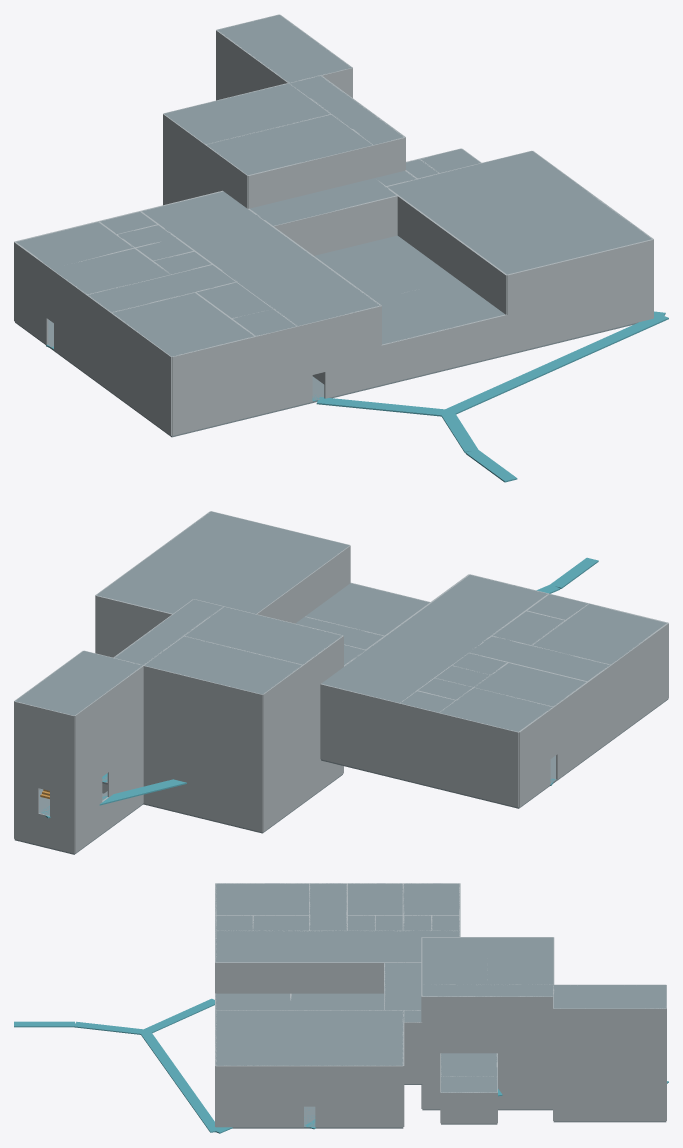
File: furnished.glb
3 views of the same model, one above another, from view 1: azimuth 30°, elevation 25°; view 2: azimuth 150°, elevation 25°; view 3: azimuth 270°, elevation 25° (orthographic). The views are drawn at different scales.
Parts seen in each view (by area): view 1: Ceiling cap ballroom, Ceiling cap gallery, Wall ballroom S, Ceiling cap archive, Ceiling cap attic-store, Wall morning S, Wall drawing S, Ceiling cap dining, Ceiling cap suite-bed, Ceiling cap morning, Ceiling cap attic-stair, Wall attic-store S (+35 smaller); view 2: Ceiling cap ballroom, Ceiling cap gallery, Ceiling cap archive, Ceiling cap attic-store, Wall library N, Ceiling cap suite-bed, Ceiling cap attic-stair, Wall archive N, Ceiling cap morning, Wall guest-a N, Wall drawing W, Wall gallery N (+48 smaller); view 3: Ceiling cap ballroom, Ceiling cap gallery, Wall ballroom E, Wall ballroom E.001, Wall gallery E.001, Wall upper-service E, Wall attic-passage E, Wall service-stair E, Wall upper-service-stair E, Ceiling cap archive, Ceiling cap attic-store, Wall attic-stair E (+28 smaller).
Part boxes in pixels (<box>): Ceiling cap ballroom: <box>388,151,651,274</box>; Ceiling cap gallery: <box>142,191,380,326</box>; Wall ballroom S: <box>506,239,653,354</box>; Ceiling cap archive: <box>164,83,329,144</box>; Ceiling cap attic-store: <box>207,114,373,174</box>; Wall morning S: <box>381,314,507,384</box>; Wall drawing S: <box>172,366,297,435</box>; Ceiling cap dining: <box>314,235,457,299</box>; Ceiling cap suite-bed: <box>112,293,255,356</box>; Ceiling cap morning: <box>374,279,504,344</box>; Ceiling cap attic-stair: <box>217,15,351,82</box>; Wall attic-store S: <box>248,145,374,208</box>; Ceiling cap ballroom: <box>96,511,349,613</box>; Ceiling cap gallery: <box>322,575,548,702</box>; Ceiling cap archive: <box>144,636,301,694</box>; Ceiling cap attic-store: <box>185,607,342,664</box>; Wall library N: <box>399,741,518,807</box>; Ceiling cap suite-bed: <box>532,604,666,664</box>; Ceiling cap attic-stair: <box>15,651,142,715</box>; Wall archive N: <box>143,665,262,725</box>; Ceiling cap morning: <box>305,583,429,635</box>; Wall guest-a N: <box>439,713,518,769</box>; Wall drawing W: <box>588,661,668,756</box>; Wall gallery N: <box>320,683,399,740</box>; Ceiling cap ballroom: <box>215,1010,403,1065</box>; Ceiling cap gallery: <box>215,931,459,962</box>; Wall ballroom E: <box>315,1065,403,1127</box>; Wall ballroom E.001: <box>215,1065,303,1127</box>; Wall gallery E.001: <box>215,962,397,993</box>; Wall upper-service E: <box>404,1022,552,1053</box>; Wall attic-passage E: <box>422,996,552,1022</box>; Wall service-stair E: <box>553,1065,666,1095</box>; Wall upper-service-stair E: <box>553,1034,666,1064</box>; Ceiling cap archive: <box>488,937,553,984</box>; Ceiling cap attic-store: <box>422,937,487,984</box>; Wall attic-stair E: <box>553,1008,666,1034</box>.
Size of the model in its own units: 47.56 by 13.36 by 69.8.
